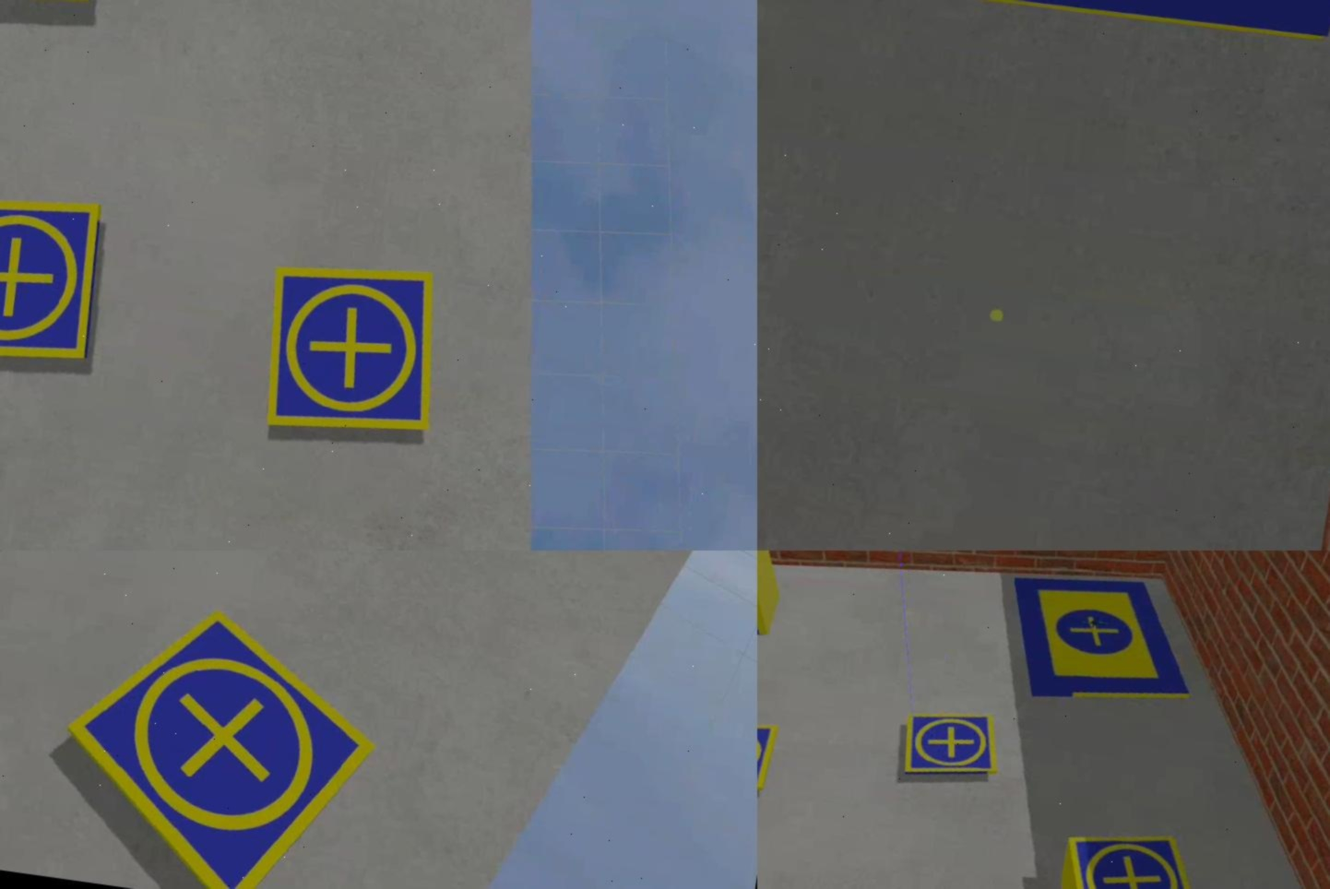large_base: (1000, 564, 1205, 720), (791, 1, 1330, 45)
small_base: (46, 590, 390, 889), (253, 251, 453, 454), (1, 183, 111, 380), (1056, 823, 1215, 889), (894, 708, 1001, 790)
